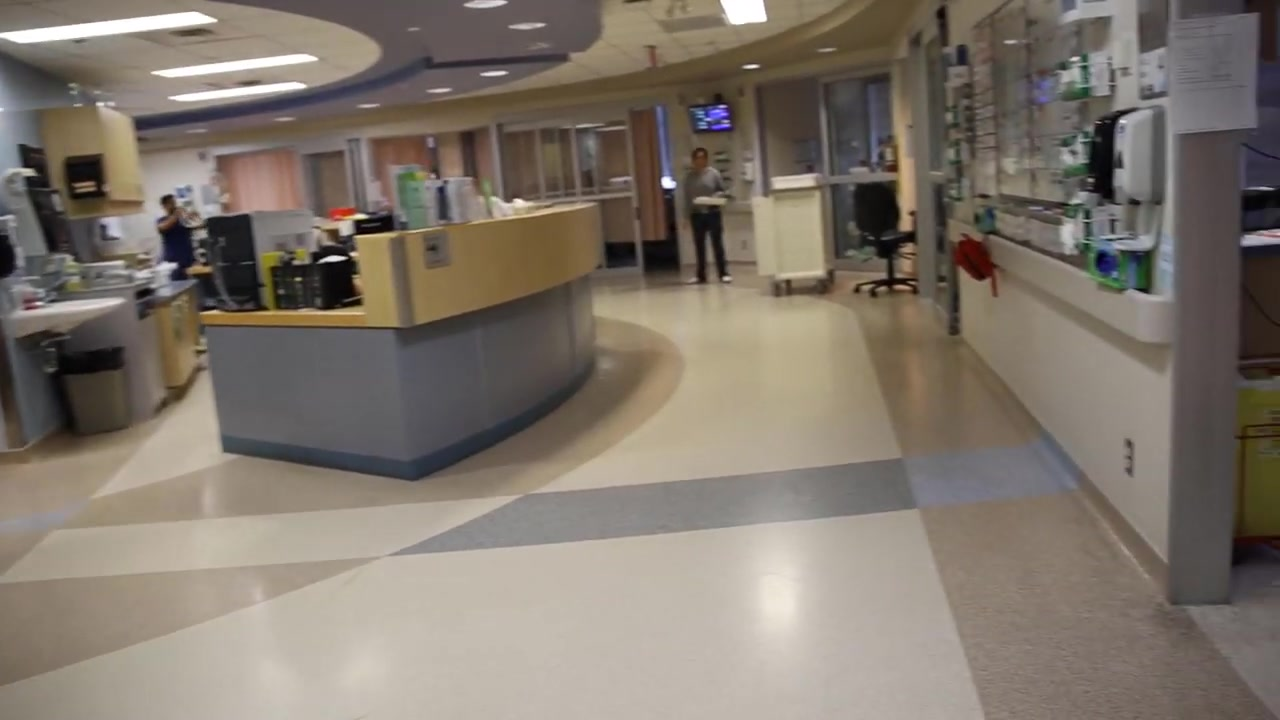TV: (686, 102, 735, 134)
cabinet: (45, 104, 145, 218)
chair: (852, 180, 919, 297)
counter: (199, 199, 598, 483)
dispenser: (1112, 106, 1166, 204), (1089, 106, 1142, 203)
hallway_assist_bar: (942, 218, 1177, 346)
person: (685, 141, 738, 291), (156, 194, 201, 281)
sink: (11, 297, 129, 340)
waste_bin: (55, 346, 132, 437)
